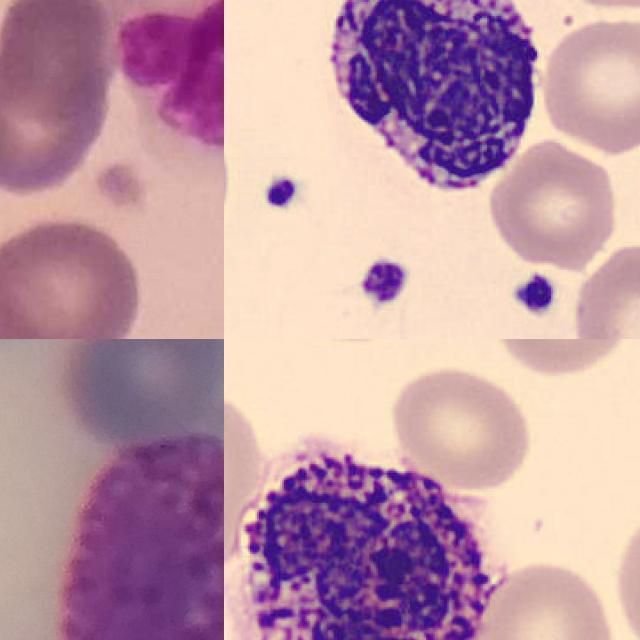Basophil: (224, 423, 513, 640), (306, 0, 553, 215), (64, 433, 224, 640)
Monocyte: (106, 0, 224, 167)
Platelets: (358, 256, 415, 310), (508, 270, 560, 319), (258, 170, 304, 214)
RBC: (384, 362, 537, 492), (486, 138, 623, 272), (536, 12, 640, 153), (468, 556, 619, 640), (224, 385, 269, 584), (568, 243, 640, 339), (484, 339, 640, 379), (610, 497, 640, 640)
